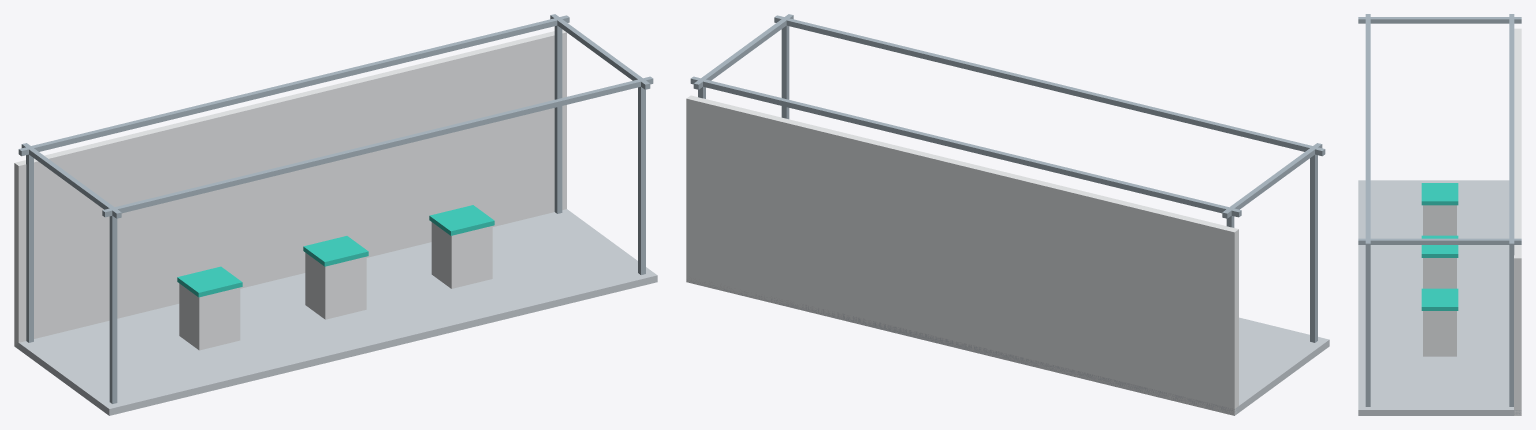
The picture shows the model from 3 angles, left to right: view 1: azimuth 30°, elevation 25°; view 2: azimuth 150°, elevation 25°; view 3: azimuth 270°, elevation 25°; orthographic projection. The views are drawn at different scales.
Parts seen in each view (by area): view 1: Exhibition Booth Concept; view 2: Exhibition Booth Concept; view 3: Exhibition Booth Concept.
Boxes of the visible parts, box(x1,y1,x2,y2) form: Exhibition Booth Concept: box(14, 14, 657, 415); Exhibition Booth Concept: box(686, 14, 1329, 415); Exhibition Booth Concept: box(1358, 14, 1521, 415).
Size of the model in its own units: 10 by 3.49 by 3.
